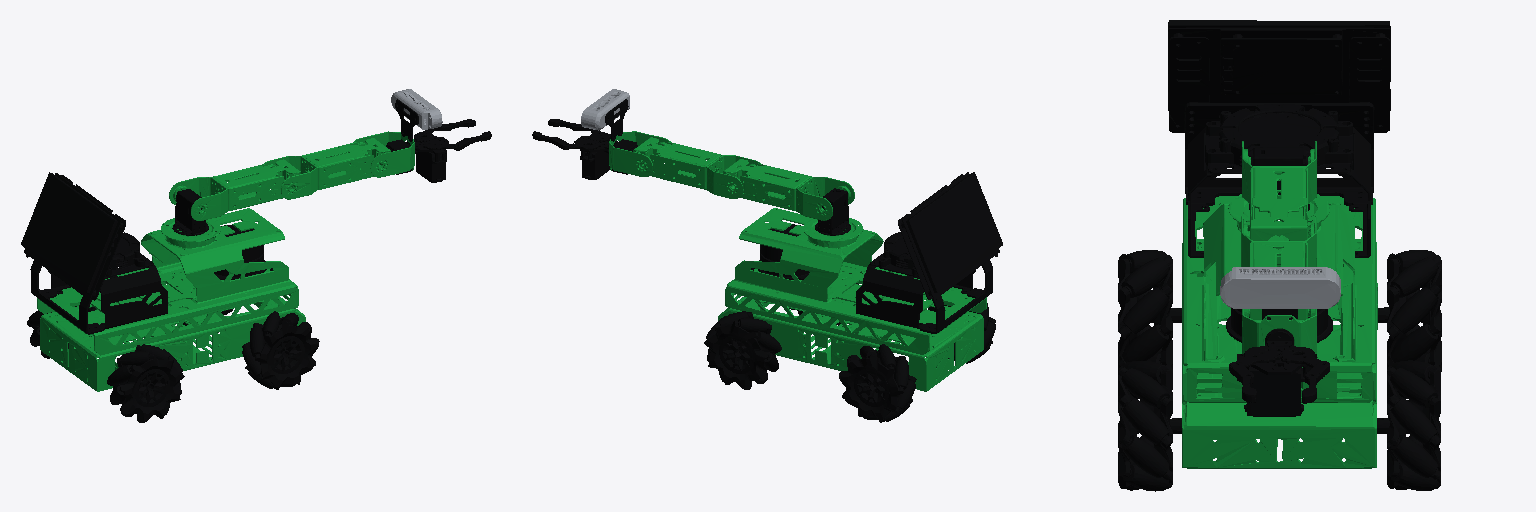
The robot description file, URDF, robot "jetrover":
<?xml version="1.0"?>
<!-- Generated by Teleop.RobotHost's JetRoverSimModel (docs/adr/0034 decision 2) from core/RobotProfiles/jetrover.json,
     JetRoverCollisionModel (generated 2026-10-20 from:) and the plant's pulse rate. Do not edit:
     JetRoverSimModelTests rewrites it (TELEOP_WRITE_GOLDEN=1). -->
<robot name="jetrover">
  <link name="base_link">
    <inertial>
      <origin xyz="-0.0432697 0.0017326 -0.0851928" rpy="0 0 0"/>
      <mass value="3"/>
      <inertia ixx="0.06" ixy="0" ixz="0" iyy="0.06" iyz="0" izz="0.06"/>
    </inertial>
    <visual name="base_link_0_visual">
      <origin xyz="0 0 0" rpy="0 0 0"/>
      <geometry><mesh filename="meshes/base_link_0.obj"/></geometry>
      <material name="jetrover_base_link_0"><color rgba="0.07 0.072 0.078 1"/></material>
    </visual>
    <visual name="base_link_1_visual">
      <origin xyz="0 0 0" rpy="0 0 0"/>
      <geometry><mesh filename="meshes/base_link_1.obj"/></geometry>
      <material name="jetrover_base_link_1"><color rgba="0.12 0.62 0.28 1"/></material>
    </visual>
    <collision name="Body.0">
      <origin xyz="-0.0834 -0.0497 -0.0961" rpy="0 0 0"/>
      <geometry><box size="0.11 0.124 0.1292"/></geometry>
    </collision>
    <collision name="Body.1">
      <origin xyz="0.07445 -0.08285 -0.1404" rpy="0 0 0"/>
      <geometry><box size="0.1065 0.0795 0.1164"/></geometry>
    </collision>
    <collision name="Body.2">
      <origin xyz="0.0733 0.0862 -0.14875" rpy="0 0 0"/>
      <geometry><box size="0.1088 0.0736 0.0993"/></geometry>
    </collision>
    <collision name="Body.3">
      <origin xyz="-0.162 -0.0403 0.04615" rpy="0 0 0"/>
      <geometry><box size="0.0536 0.0902 0.0707"/></geometry>
    </collision>
    <collision name="Body.4">
      <origin xyz="-0.1272 -0.075 -0.13665" rpy="0 0 0"/>
      <geometry><box size="0.1116 0.0952 0.1241"/></geometry>
    </collision>
    <collision name="Body.5">
      <origin xyz="-0.124 0.08765 -0.14815" rpy="0 0 0"/>
      <geometry><box size="0.1108 0.0709 0.1007"/></geometry>
    </collision>
    <collision name="Body.6">
      <origin xyz="-0.1557 0.03285 -0.01035" rpy="0 0 0"/>
      <geometry><box size="0.091 0.1043 0.0993"/></geometry>
    </collision>
    <collision name="Body.7">
      <origin xyz="0.06705 -0.0125 -0.0534" rpy="0 0 0"/>
      <geometry><box size="0.1013 0.1244 0.0814"/></geometry>
    </collision>
    <collision name="Body.8">
      <origin xyz="-0.15325 -0.0436 -0.0384" rpy="0 0 0"/>
      <geometry><box size="0.0957 0.0836 0.1188"/></geometry>
    </collision>
    <collision name="Body.9">
      <origin xyz="0.06155 0.0603 -0.0818" rpy="0 0 0"/>
      <geometry><box size="0.1229 0.122 0.1222"/></geometry>
    </collision>
    <collision name="Body.10">
      <origin xyz="0.01375 -0.0476 -0.1008" rpy="0 0 0"/>
      <geometry><box size="0.1021 0.1146 0.1198"/></geometry>
    </collision>
    <collision name="Body.11">
      <origin xyz="0.0843 0.0023 -0.11135" rpy="0 0 0"/>
      <geometry><box size="0.0868 0.135 0.0983"/></geometry>
    </collision>
    <collision name="Body.12">
      <origin xyz="-0.0241 0.02795 -0.1086" rpy="0 0 0"/>
      <geometry><box size="0.1092 0.0943 0.1042"/></geometry>
    </collision>
    <collision name="Body.13">
      <origin xyz="-0.10525 0.0575 -0.08205" rpy="0 0 0"/>
      <geometry><box size="0.1155 0.125 0.1243"/></geometry>
    </collision>
    <collision name="Body.14">
      <origin xyz="0.01865 -0.0002 -0.04045" rpy="0 0 0"/>
      <geometry><box size="0.1229 0.1182 0.0825"/></geometry>
    </collision>
    <collision name="Body.15">
      <origin xyz="-0.11735 -0.00245 -0.035" rpy="0 0 0"/>
      <geometry><box size="0.0821 0.1365 0.09"/></geometry>
    </collision>
    <collision name="Body.16">
      <origin xyz="-0.1514 0.0126 -0.10685" rpy="0 0 0"/>
      <geometry><box size="0.0852 0.1248 0.1075"/></geometry>
    </collision>
    <collision name="Body.17">
      <origin xyz="-0.1588 0.04005 0.0512" rpy="0 0 0"/>
      <geometry><box size="0.0472 0.0899 0.0606"/></geometry>
    </collision>
  </link>
  <link name="turntable">
    <inertial>
      <origin xyz="-0.0001 -0.000649 0.0193319" rpy="0 0 0"/>
      <mass value="0.15"/>
      <inertia ixx="0.0000636" ixy="-0" ixz="0" iyy="0.0000541" iyz="-0.0000003" izz="0.0000578"/>
    </inertial>
    <visual name="turntable_0_visual">
      <origin xyz="0 0 0" rpy="0 0 0"/>
      <geometry><mesh filename="meshes/turntable_0.obj"/></geometry>
      <material name="jetrover_turntable_0"><color rgba="0.07 0.072 0.078 1"/></material>
    </visual>
    <collision name="turntable.0">
      <origin xyz="-0.0001 0 0.0114" rpy="0 0 0"/>
      <geometry><box size="0.0514 0.0514 0.0312"/></geometry>
    </collision>
    <collision name="turntable.1">
      <origin xyz="-0.0001 -0.0018 0.0334" rpy="-1.3477198 -0.0106309 -0.0052166"/>
      <geometry><box size="0.026 0.0336 0.0532"/></geometry>
    </collision>
  </link>
  <link name="proximal_link">
    <inertial>
      <origin xyz="0.0622311 -0.0002 0.0006482" rpy="0 0 0"/>
      <mass value="0.12"/>
      <inertia ixx="0.0000446" ixy="0" ixz="0.0000002" iyy="0.000287" iyz="0" izz="0.0003036"/>
    </inertial>
    <visual name="proximal_link_0_visual">
      <origin xyz="0 0 0" rpy="0 0 0"/>
      <geometry><mesh filename="meshes/proximal_link_0.obj"/></geometry>
      <material name="jetrover_proximal_link_0"><color rgba="0.12 0.62 0.28 1"/></material>
    </visual>
    <collision name="proximal.0">
      <origin xyz="0.0804 -0.0002 0.0006" rpy="0 0 0"/>
      <geometry><box size="0.057 0.0486 0.0374"/></geometry>
    </collision>
    <collision name="proximal.1">
      <origin xyz="0.0202 -0.0002 0.0007" rpy="0 0 0"/>
      <geometry><box size="0.0772 0.0616 0.0376"/></geometry>
    </collision>
    <collision name="proximal.2">
      <origin xyz="0.126 -0.0002 0.0006" rpy="0 0 0"/>
      <geometry><box size="0.0484 0.0488 0.0374"/></geometry>
    </collision>
  </link>
  <link name="distal_link">
    <inertial>
      <origin xyz="0.0612046 -0.0005992 0" rpy="0 0 0"/>
      <mass value="0.12"/>
      <inertia ixx="0.0000438" ixy="0.0000001" ixz="0" iyy="0.0002893" iyz="0" izz="0.0003049"/>
    </inertial>
    <visual name="distal_link_0_visual">
      <origin xyz="0 0 0" rpy="0 0 0"/>
      <geometry><mesh filename="meshes/distal_link_0.obj"/></geometry>
      <material name="jetrover_distal_link_0"><color rgba="0.12 0.62 0.28 1"/></material>
    </visual>
    <collision name="distal.0">
      <origin xyz="0.0663 -0.0008 0" rpy="0 0 0"/>
      <geometry><box size="0.0638 0.0504 0.0376"/></geometry>
    </collision>
    <collision name="distal.1">
      <origin xyz="0.0113 -0.0005 0" rpy="0 0 0"/>
      <geometry><box size="0.06 0.0616 0.0376"/></geometry>
    </collision>
    <collision name="distal.2">
      <origin xyz="0.1209 -0.0005 0" rpy="0 0 0"/>
      <geometry><box size="0.058 0.0488 0.0374"/></geometry>
    </collision>
  </link>
  <link name="wrist_link">
    <inertial>
      <origin xyz="0.0474568 0.000509 0.0196866" rpy="0 0 0"/>
      <mass value="0.1"/>
      <inertia ixx="0.0001208" ixy="-0.0000003" ixz="-0.0000354" iyy="0.0001163" iyz="-0.0000005" izz="0.0001067"/>
    </inertial>
    <visual name="wrist_link_0_visual">
      <origin xyz="0 0 0" rpy="0 0 0"/>
      <geometry><mesh filename="meshes/wrist_link_0.obj"/></geometry>
      <material name="jetrover_wrist_link_0"><color rgba="0.07 0.072 0.078 1"/></material>
    </visual>
    <visual name="wrist_link_1_visual">
      <origin xyz="0 0 0" rpy="0 0 0"/>
      <geometry><mesh filename="meshes/wrist_link_1.obj"/></geometry>
      <material name="jetrover_wrist_link_1"><color rgba="0.12 0.62 0.28 1"/></material>
    </visual>
    <visual name="wrist_link_2_visual">
      <origin xyz="0 0 0" rpy="0 0 0"/>
      <geometry><mesh filename="meshes/wrist_link_2.obj"/></geometry>
      <material name="jetrover_wrist_link_2"><color rgba="0.6 0.62 0.65 1"/></material>
    </visual>
    <collision name="wrist.0">
      <origin xyz="0.0405 0 -0.0008" rpy="0 0 0"/>
      <geometry><box size="0.0344 0.0616 0.0564"/></geometry>
    </collision>
    <collision name="wrist.1">
      <origin xyz="0.0107 -0.0248 0" rpy="0 0 0"/>
      <geometry><box size="0.0586 0.012 0.0376"/></geometry>
    </collision>
    <collision name="wrist.2">
      <origin xyz="0.0651 0.023 0.0417" rpy="0 0 0"/>
      <geometry><box size="0.033 0.0508 0.0484"/></geometry>
    </collision>
    <collision name="wrist.3">
      <origin xyz="0.0651 -0.0218 0.0416" rpy="0 0 0"/>
      <geometry><box size="0.033 0.0502 0.0484"/></geometry>
    </collision>
    <collision name="wrist.4">
      <origin xyz="0.0117 0.0243 0" rpy="0 0 0"/>
      <geometry><box size="0.0606 0.0128 0.0376"/></geometry>
    </collision>
  </link>
  <link name="gripper_link">
    <inertial>
      <origin xyz="0.0818374 -0.0038871 -0.0106456" rpy="0 0 0"/>
      <mass value="0.12"/>
      <inertia ixx="0.0000648" ixy="0.0000006" ixz="0.0000024" iyy="0.0000548" iyz="-0.000001" izz="0.0000688"/>
    </inertial>
    <visual name="gripper_link_0_visual">
      <origin xyz="0 0 0" rpy="0 0 0"/>
      <geometry><mesh filename="meshes/gripper_link_0.obj"/></geometry>
      <material name="jetrover_gripper_link_0"><color rgba="0.07 0.072 0.078 1"/></material>
    </visual>
    <collision name="gripper.0">
      <origin xyz="0.0807 -0.0026 -0.0043" rpy="0.3729971 -1.5053658 1.2401309"/>
      <geometry><box size="0.035 0.0622 0.0652"/></geometry>
    </collision>
    <collision name="gripper.3">
      <origin xyz="0.0845 -0.0069 -0.0255" rpy="0 0 0"/>
      <geometry><box size="0.0256 0.0556 0.0426"/></geometry>
    </collision>
  </link>
  <link name="left_finger">
    <inertial>
      <origin xyz="0.147724 0.022089 0.002667" rpy="0 0 0"/>
      <mass value="0.01"/>
      <inertia ixx="0.0000002" ixy="0" ixz="0" iyy="0.0000008" iyz="0" izz="0.0000009"/>
    </inertial>
    <visual name="left_finger_0_visual">
      <origin xyz="0 0 0" rpy="0 0 0"/>
      <geometry><mesh filename="meshes/left_finger_0.obj"/></geometry>
      <material name="jetrover_left_finger_0"><color rgba="0.07 0.072 0.078 1"/></material>
    </visual>
    <collision name="left_finger.pad">
      <origin xyz="0.147724 0.022089 0.002667" rpy="0 0 0"/>
      <geometry><box size="0.029996 0.011332 0.00739"/></geometry>
    </collision>
  </link>
  <link name="right_finger">
    <inertial>
      <origin xyz="0.147565 -0.02266 0.003051" rpy="0 0 0"/>
      <mass value="0.01"/>
      <inertia ixx="0.0000001" ixy="0" ixz="-0" iyy="0.0000008" iyz="0" izz="0.0000008"/>
    </inertial>
    <visual name="right_finger_0_visual">
      <origin xyz="0 0 0" rpy="0 0 0"/>
      <geometry><mesh filename="meshes/right_finger_0.obj"/></geometry>
      <material name="jetrover_right_finger_0"><color rgba="0.07 0.072 0.078 1"/></material>
    </visual>
    <collision name="right_finger.pad">
      <origin xyz="0.147565 -0.02266 0.003051" rpy="0 0 0"/>
      <geometry><box size="0.029787 0.011285 0.007074"/></geometry>
    </collision>
  </link>
  <joint name="base_yaw" type="revolute">
    <parent link="base_link"/>
    <child link="turntable"/>
    <origin xyz="0 0 0" rpy="0 0 0"/>
    <axis xyz="0 0 1"/>
    <limit lower="-2.0943999" upper="2.0943999" effort="3.4" velocity="9.2153387"/>
  </joint>
  <joint name="proximal" type="revolute">
    <parent link="turntable"/>
    <child link="proximal_link"/>
    <origin xyz="0 0 0.035" rpy="0 0 0"/>
    <axis xyz="0 -1 0"/>
    <limit lower="-0.5236" upper="1.9721" effort="3.4" velocity="9.2153387"/>
  </joint>
  <joint name="distal" type="revolute">
    <parent link="proximal_link"/>
    <child link="distal_link"/>
    <origin xyz="0.13 0 0" rpy="0 0 0"/>
    <axis xyz="0 -1 0"/>
    <limit lower="-2.0943999" upper="2.0941999" effort="3.4" velocity="9.2153387"/>
  </joint>
  <joint name="wrist" type="revolute">
    <parent link="distal_link"/>
    <child link="wrist_link"/>
    <origin xyz="0.13 0 0" rpy="0 0 0"/>
    <axis xyz="0 -1 0"/>
    <limit lower="-1.967" upper="2.0420001" effort="3.4" velocity="9.2153387"/>
  </joint>
  <joint name="roll" type="revolute">
    <parent link="wrist_link"/>
    <child link="gripper_link"/>
    <origin xyz="0 0 0" rpy="0 0 0"/>
    <axis xyz="1 0 0"/>
    <limit lower="-2.0943999" upper="2.0943999" effort="1.5" velocity="9.2153387"/>
  </joint>
  <joint name="gripper" type="prismatic">
    <parent link="gripper_link"/>
    <child link="left_finger"/>
    <origin xyz="0 0 0" rpy="0 0 0"/>
    <axis xyz="0 -1 0"/>
    <limit lower="-0.009781" upper="0.016241" effort="20" velocity="0.1"/>
  </joint>
  <joint name="gripper_mirror" type="prismatic">
    <parent link="gripper_link"/>
    <child link="right_finger"/>
    <origin xyz="0 0 0" rpy="0 0 0"/>
    <axis xyz="0 1 0"/>
    <limit lower="-0.009781" upper="0.016241" effort="20" velocity="0.1"/>
  </joint>
</robot>

--- Render facts (derived) ---
Views: 3 orthographic renders of the robot side by side, from view 1: azimuth 30°, elevation 25°; view 2: azimuth 150°, elevation 25°; view 3: azimuth 270°, elevation 25°.
Model jetrover with 8 links and 7 joints (5 revolute, 2 prismatic), rooted at base_link, posed every joint at zero.
Links seen in each view (by area): view 1: base_link, proximal_link, distal_link, wrist_link, gripper_link, turntable, right_finger; view 2: base_link, proximal_link, distal_link, wrist_link, turntable, gripper_link; view 3: base_link, wrist_link, proximal_link, gripper_link, distal_link, right_finger, left_finger, turntable.
Link boxes in pixels (<box>): base_link: <box>21,172,319,422</box>; proximal_link: <box>169,159,300,220</box>; distal_link: <box>264,138,390,199</box>; wrist_link: <box>353,89,442,177</box>; gripper_link: <box>406,136,448,182</box>; turntable: <box>172,189,208,235</box>; right_finger: <box>423,131,491,150</box>; base_link: <box>704,172,1002,422</box>; proximal_link: <box>723,159,854,220</box>; distal_link: <box>633,137,760,198</box>; wrist_link: <box>581,89,670,176</box>; turntable: <box>815,188,850,235</box>; gripper_link: <box>574,134,617,179</box>; base_link: <box>1118,20,1441,491</box>; wrist_link: <box>1220,267,1340,353</box>; proximal_link: <box>1242,141,1316,264</box>; gripper_link: <box>1237,331,1310,416</box>; distal_link: <box>1241,216,1316,321</box>; right_finger: <box>1229,345,1281,402</box>; left_finger: <box>1279,346,1329,403</box>; turntable: <box>1249,147,1309,210</box>.
Bounding box of the posed robot: 0.6212 × 0.2406 × 0.2942 m (x, y, z).
Meshes: 11 distinct files referenced, 11 mesh visuals loaded (11 OBJ).
